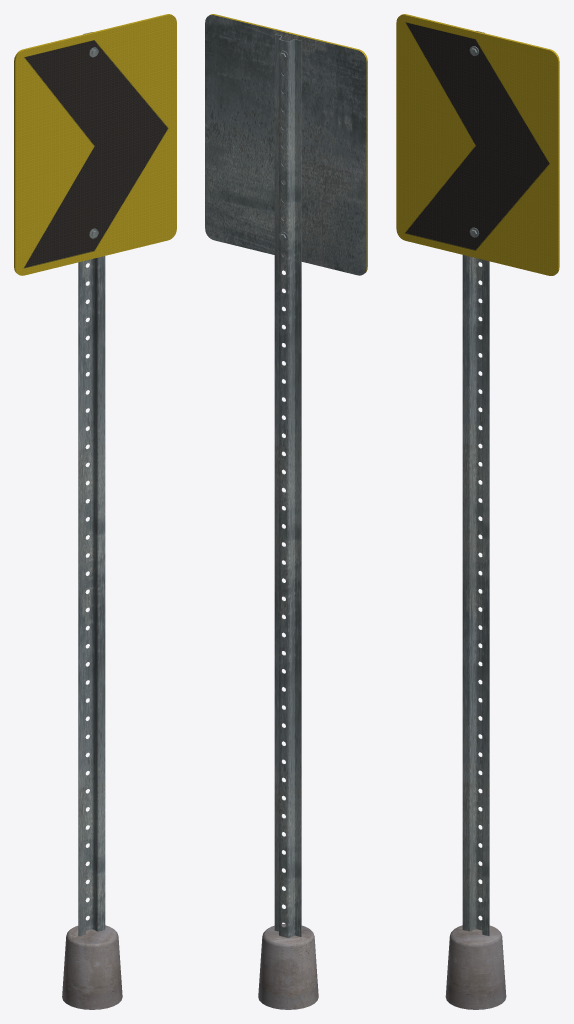
File: arrowd_nsoc.obj
3 renders of one model, left to right at view 1: azimuth 30°, elevation 25°; view 2: azimuth 150°, elevation 25°; view 3: azimuth 330°, elevation 25°, orthographic.
Parts seen in each view (by area): view 1: sign_arrow_c; view 2: sign_arrow_c; view 3: sign_arrow_c.
Part boxes in pixels (x1,y1,x2,y2): sign_arrow_c: [14, 14, 176, 1009]; sign_arrow_c: [205, 14, 367, 1009]; sign_arrow_c: [396, 14, 559, 1009].
Bounding box in the file's own units: 18 × 103 × 5.84.
Materials: 3 (3 with a texture image).
